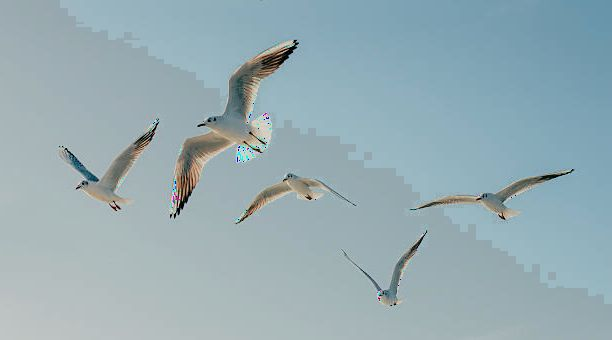Bird: (167, 34, 300, 223), (55, 112, 161, 214), (404, 166, 580, 223), (235, 171, 359, 229), (340, 229, 426, 309)
